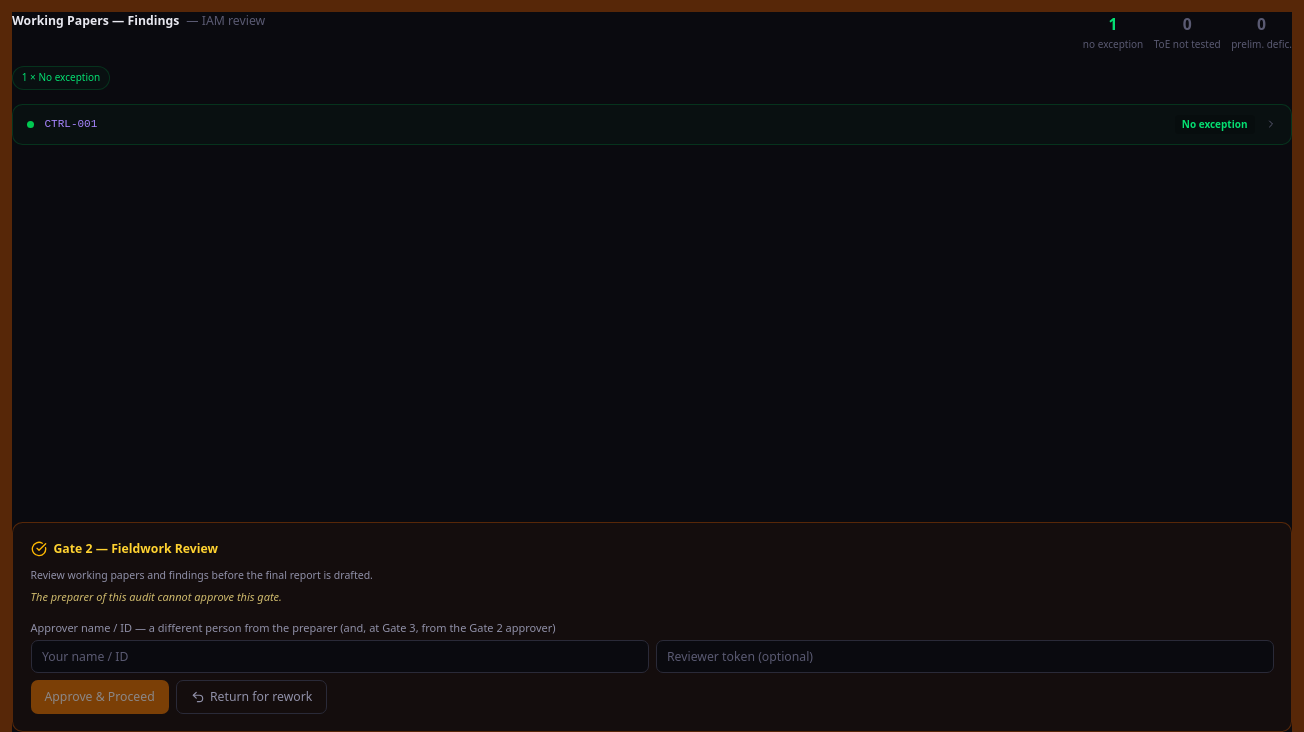
Test: FindingsBoard › renders ToD/ToE conclusions, items tested and exceptions
Click the text "CTRL-001" at point(71, 124), box x1=44 y1=116 x2=97 y2=132
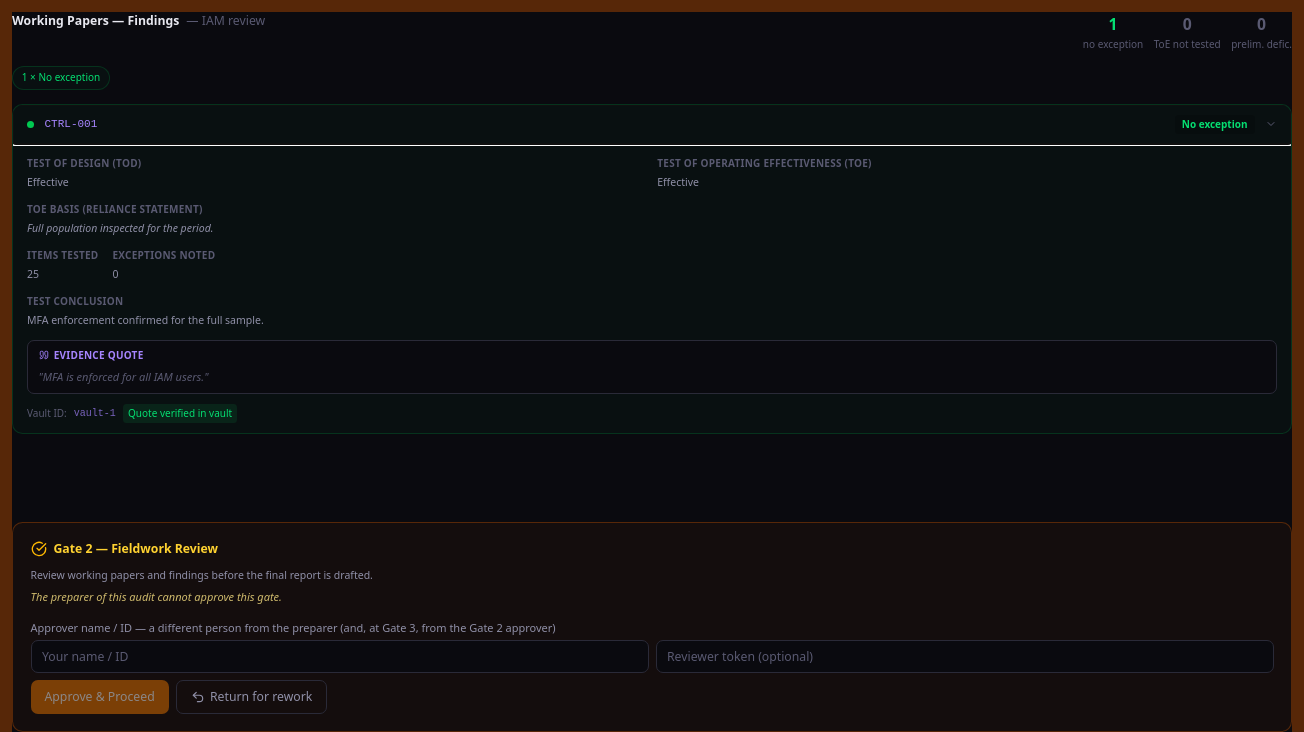
expect the text "Effective" is shown 2 times: met, box x1=27 y1=175 x2=69 y2=189; x1=657 y1=175 x2=699 y2=189
expect the text "Full population inspected for the period." is shown: met, box x1=27 y1=221 x2=214 y2=235
expect the text "25" is shown: met, box x1=27 y1=267 x2=39 y2=281
